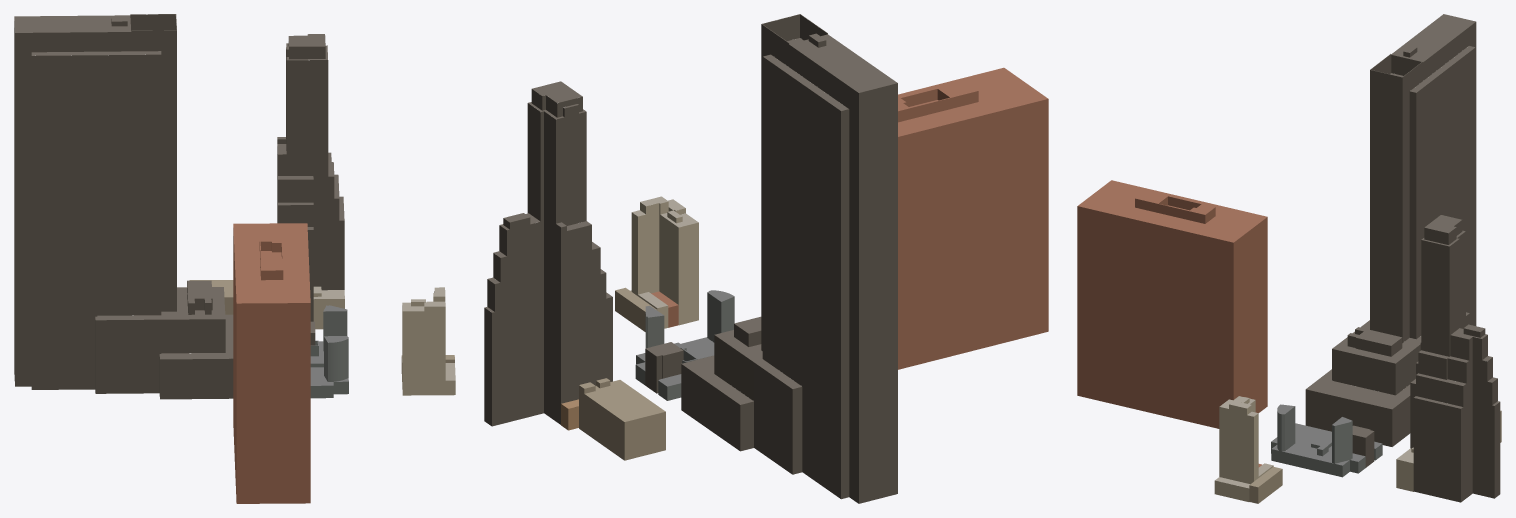
File: tile-2_-12.glb
3 views of the same model, side by side, from view 1: azimuth 30°, elevation 25°; view 2: azimuth 150°, elevation 25°; view 3: azimuth 270°, elevation 25° (orthographic). The views are drawn at different scales.
Parts seen in each view (by area): view 1: wall, roof; view 2: wall, roof; view 3: wall, roof.
Part boxes in pixels (x1=…): wall: x1=14, y1=14, x2=455, y2=503; roof: x1=14, y1=14, x2=455, y2=385; wall: x1=484, y1=14, x2=1048, y2=503; roof: x1=484, y1=14, x2=1048, y2=421; wall: x1=1077, y1=22, x2=1501, y2=503; roof: x1=1078, y1=14, x2=1500, y2=488.
Bounding box in the file's own units: 225 × 225 × 255.
